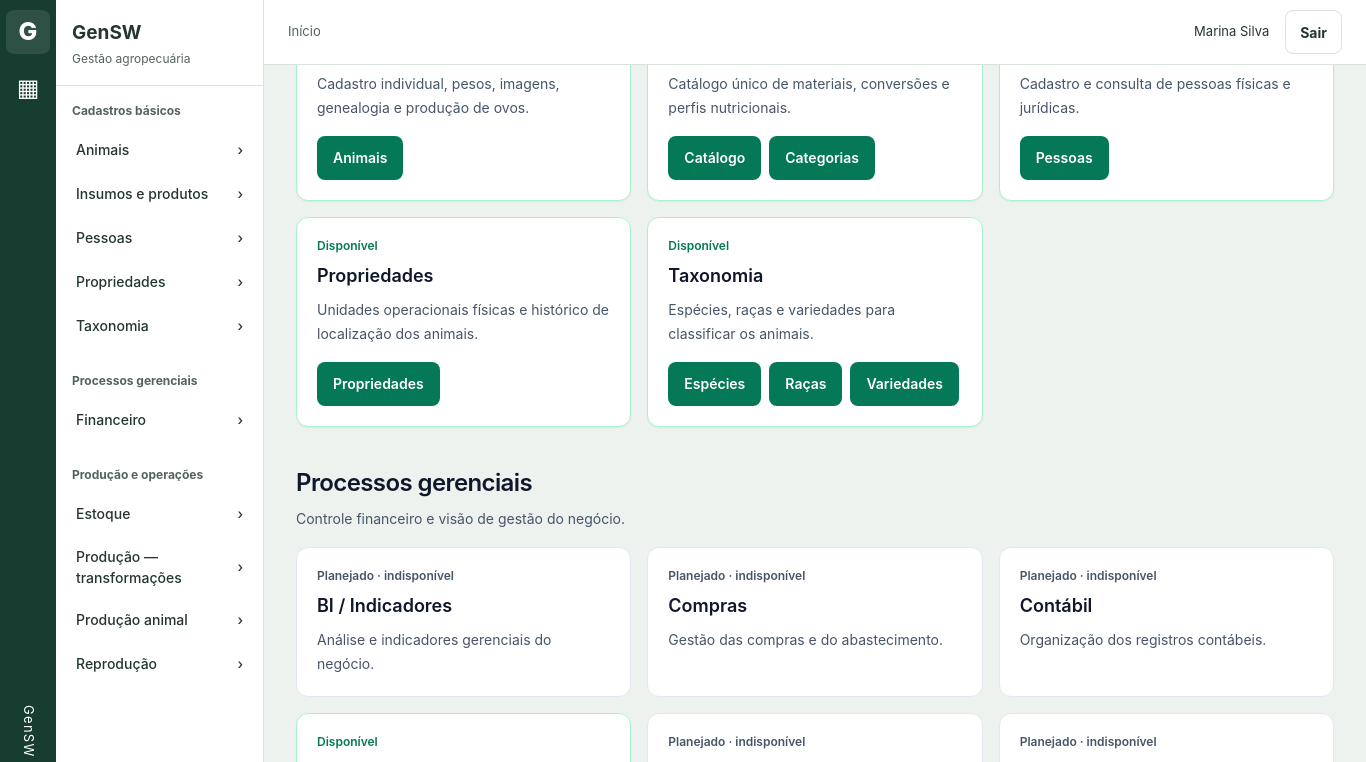
Test: AppRoutes › navega da home autenticada para espécies
(page scrolled)
Click the link "Espécies" at (715, 384), box [668, 362, 761, 406]
(page scrolled)
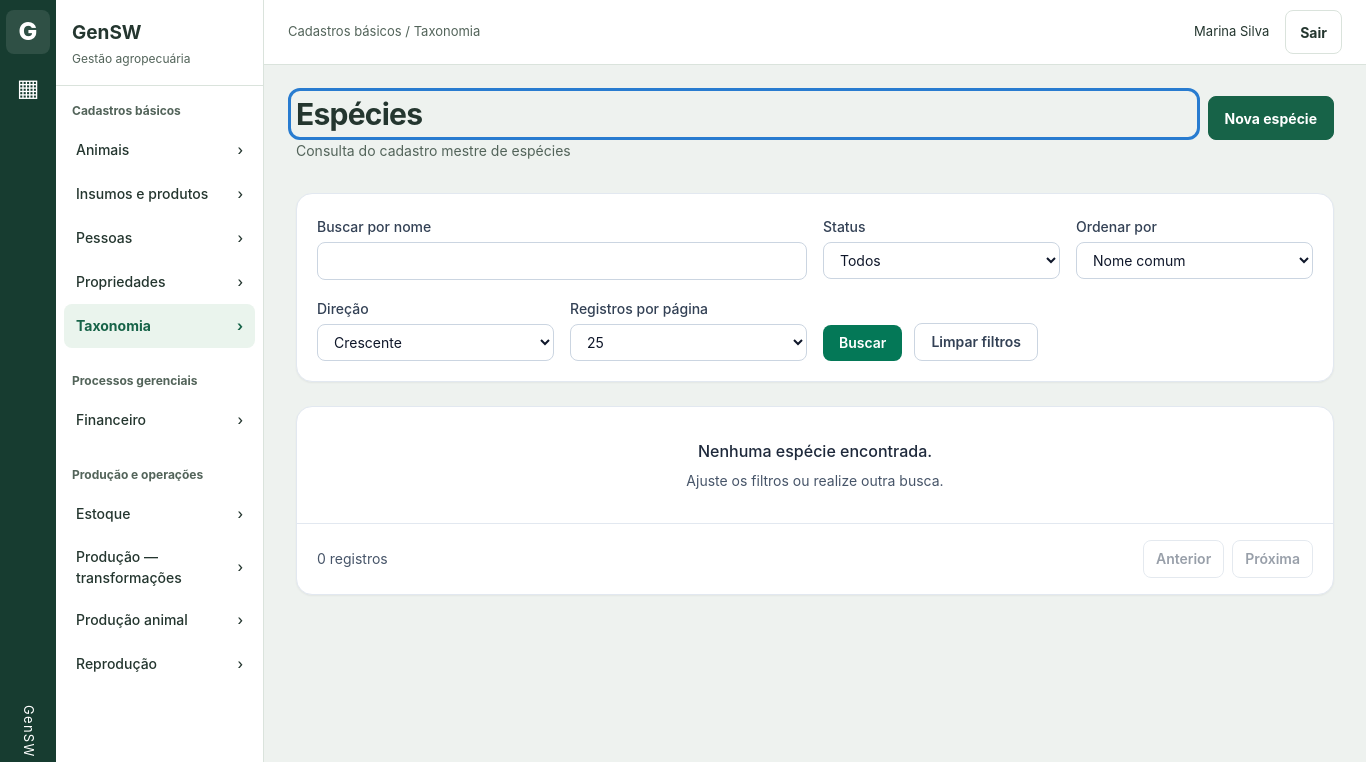
Check: the heading "Espécies" is shown, box [296, 96, 422, 132]
